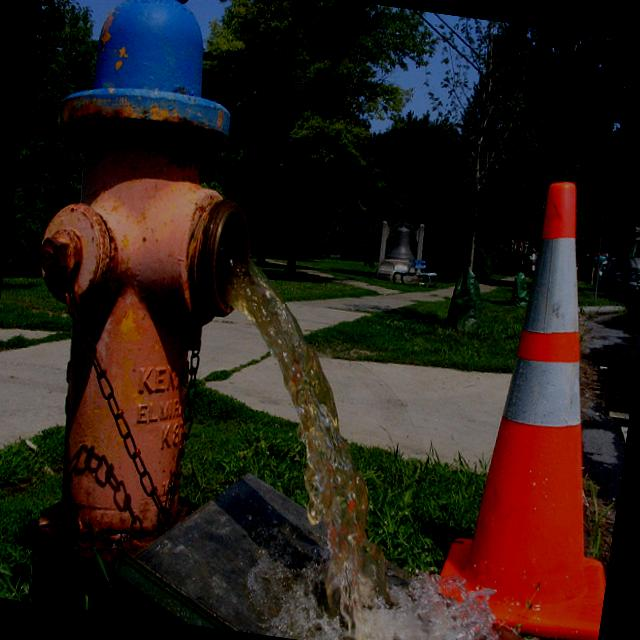Vehicle: (616, 225, 640, 310), (610, 252, 630, 300), (600, 256, 616, 294), (590, 255, 608, 287), (597, 260, 608, 288)
